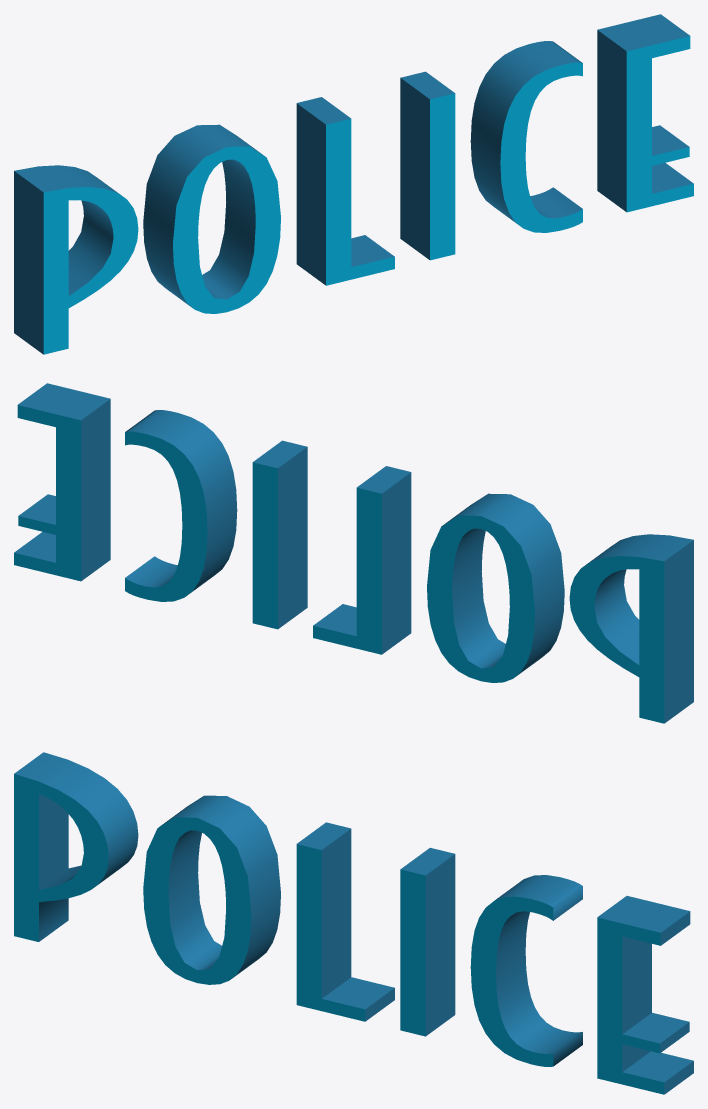
File: text_police.fbx
The picture shows the model from 3 angles, top to bottom: view 1: azimuth 30°, elevation 25°; view 2: azimuth 150°, elevation 25°; view 3: azimuth 330°, elevation 25°; orthographic projection.
Parts seen in each view (by area): view 1: text_police; view 2: text_police; view 3: text_police.
Part boxes in pixels (x1=…): text_police: x1=14, y1=14, x2=693, y2=354; text_police: x1=14, y1=383, x2=693, y2=723; text_police: x1=14, y1=752, x2=693, y2=1094.
Size of the model in its own units: 9.63 by 2.34 by 0.7605.
